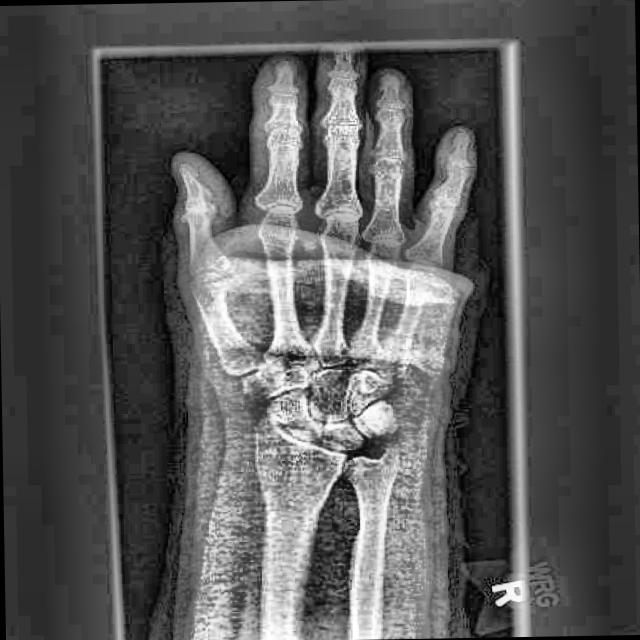wrist positive: (244, 408, 354, 458)
